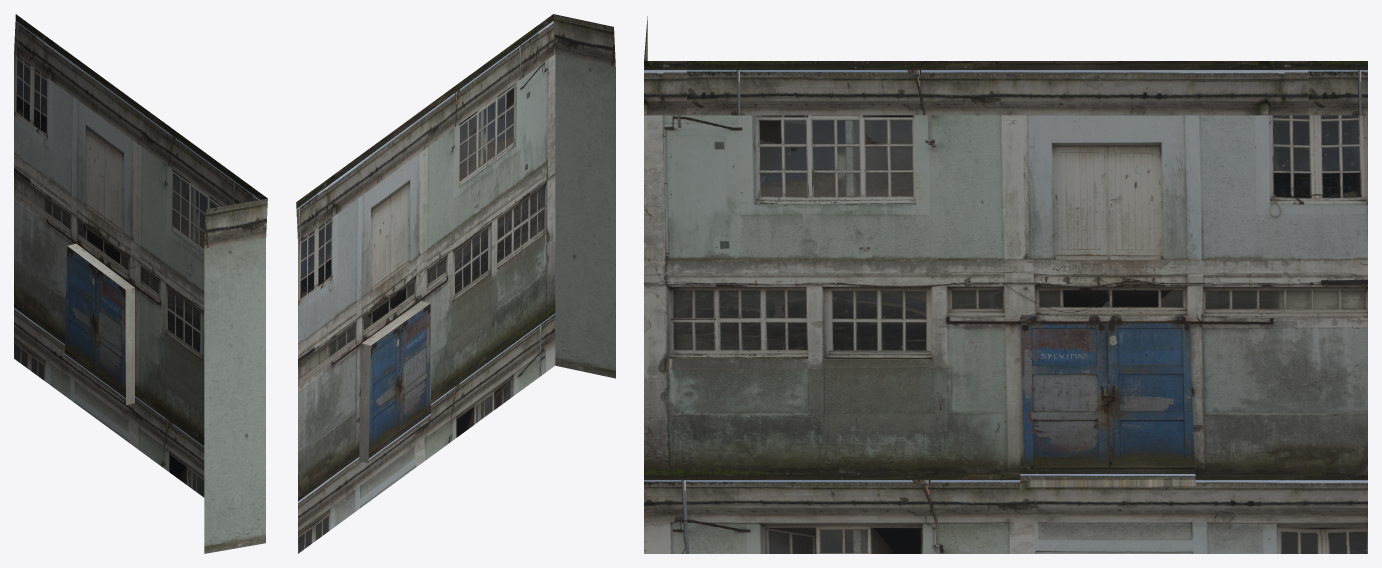
Rendered from FillerBuildingNew.fbx.
3 views of the same model, side by side, from view 1: azimuth 30°, elevation 25°; view 2: azimuth 150°, elevation 25°; view 3: azimuth 270°, elevation 25° (orthographic). The views are drawn at different scales.
Parts seen in each view (by area): view 1: Cube.002; view 2: Cube.002; view 3: Cube.002.
Part boxes in pixels (x1=…): Cube.002: x1=14, y1=14, x2=267, y2=553; Cube.002: x1=296, y1=14, x2=615, y2=553; Cube.002: x1=644, y1=16, x2=1367, y2=553.
Bounding box in the file's own units: 64.99 × 345 × 454.
